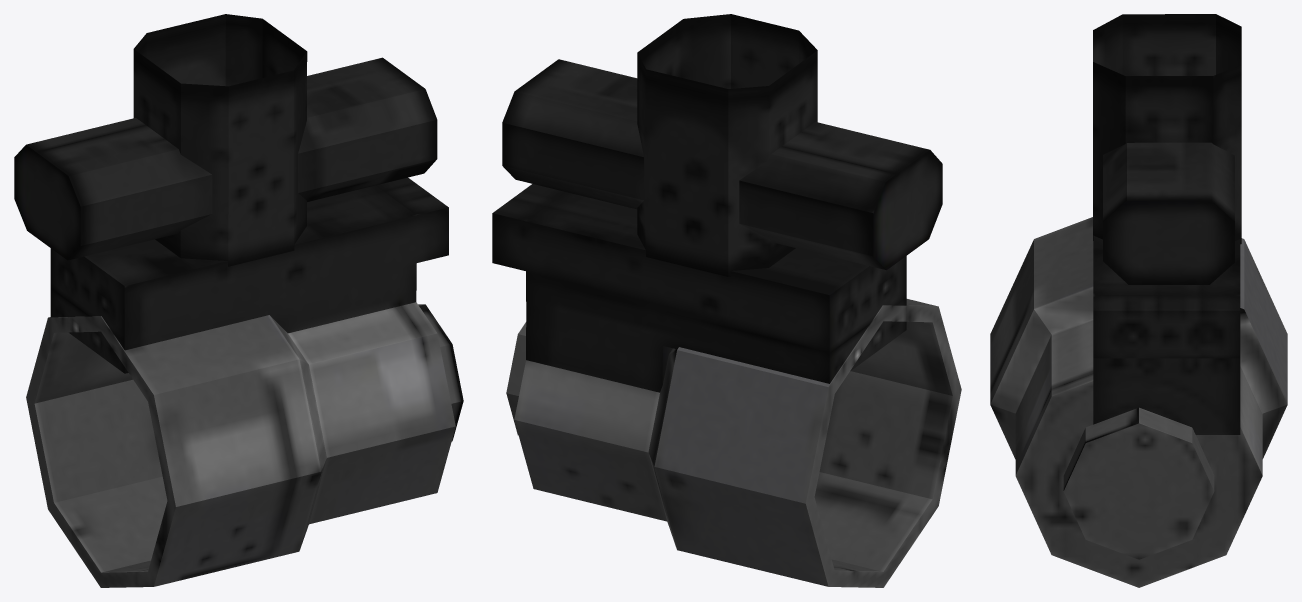
File: r_farm.dae
3 views of the same model, side by side, from view 1: azimuth 30°, elevation 25°; view 2: azimuth 150°, elevation 25°; view 3: azimuth 270°, elevation 25° (orthographic). The views are drawn at different scales.
Parts seen in each view (by area): view 1: drc_r_farm; view 2: drc_r_farm; view 3: drc_r_farm.
Boxes of the visible parts, left/top/right/bottom form: drc_r_farm: left=14, top=14, right=463, bottom=587; drc_r_farm: left=492, top=14, right=961, bottom=587; drc_r_farm: left=990, top=14, right=1287, bottom=587.
Size of the model in its own units: 0.1299 by 0.1684 by 0.0927.
1 material, 1 textured.
